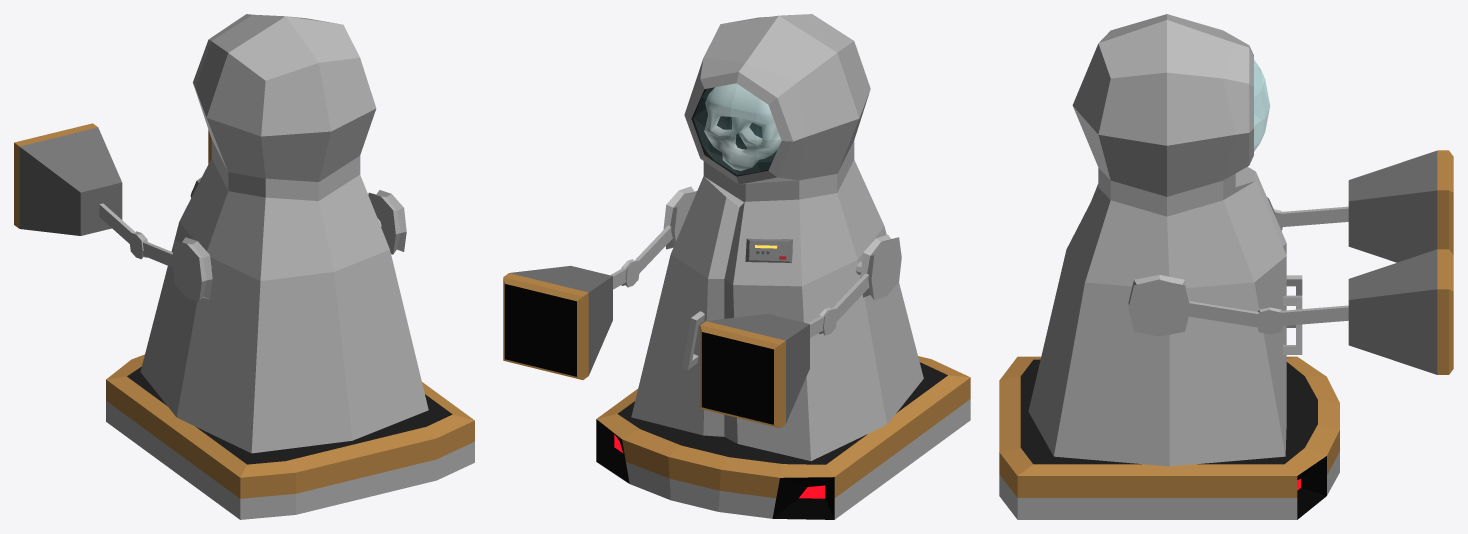
Rendered from WageCage.glb.
The picture shows the model from 3 angles, left to right: view 1: azimuth 30°, elevation 25°; view 2: azimuth 150°, elevation 25°; view 3: azimuth 270°, elevation 25°; orthographic projection. The views are drawn at different scales.
Parts seen in each view (by area): view 1: IronMaiden, Base, ArmHand, Arm, Arm.001, ArmForearm; view 2: IronMaiden, Base, ArmHand, ArmHand.001, FacePlate, Skull, Arm, ControlPanel, Arm.001, Handle, ArmFirstLength.001, ArmFirstLength; view 3: IronMaiden, Base, ArmHand.001, ArmHand, Arm.001, ArmFirstLength.001, ArmForearm.001, ArmForearm, FacePlate, ArmElbow.001, Handle.
Boxes of the visible parts, <box> form: IronMaiden: <box>140,14,428,453</box>; Base: <box>106,354,474,519</box>; ArmHand: <box>14,123,122,235</box>; Arm: <box>172,237,212,301</box>; Arm.001: <box>368,190,406,254</box>; ArmForearm: <box>99,203,135,243</box>; IronMaiden: <box>631,14,923,460</box>; Base: <box>596,356,970,519</box>; ArmHand: <box>700,314,809,428</box>; ArmHand.001: <box>503,265,612,379</box>; FacePlate: <box>693,83,780,174</box>; Skull: <box>704,83,781,170</box>; Arm: <box>860,234,901,300</box>; ControlPanel: <box>745,238,792,263</box>; Arm.001: <box>663,186,696,249</box>; Handle: <box>682,311,704,369</box>; ArmFirstLength.001: <box>634,225,672,273</box>; ArmFirstLength: <box>832,274,869,321</box>; IronMaiden: <box>1028,14,1286,466</box>; Base: <box>999,356,1339,519</box>; ArmHand.001: <box>1348,249,1453,374</box>; ArmHand: <box>1348,150,1453,262</box>; Arm.001: <box>1128,275,1190,336</box>; ArmFirstLength.001: <box>1188,301,1258,327</box>; ArmForearm.001: <box>1279,305,1348,325</box>; ArmForearm: <box>1279,206,1348,226</box>; FacePlate: <box>1254,60,1270,151</box>; ArmElbow.001: <box>1256,307,1283,334</box>; Handle: <box>1283,295,1302,354</box>.
Size of the model in its own units: 0.5863 by 0.8675 by 0.8108.
